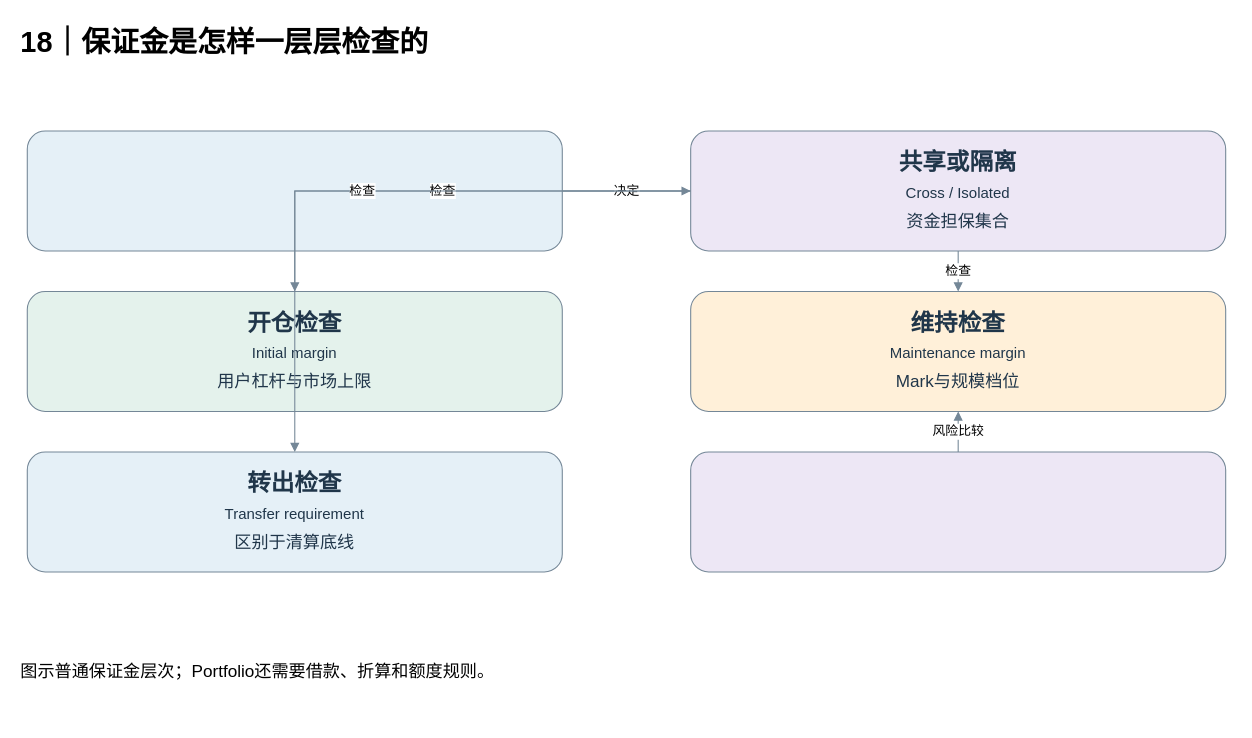
This 1252x738 diagram has some shape labels left out. Each missing label, with the box of its shape:
账户权益 Equity 随盈亏、费用与资金变化: (690, 451, 1226, 572)
账户模式 Risk scope Standard / Unified / Portfolio: (26, 130, 562, 251)
